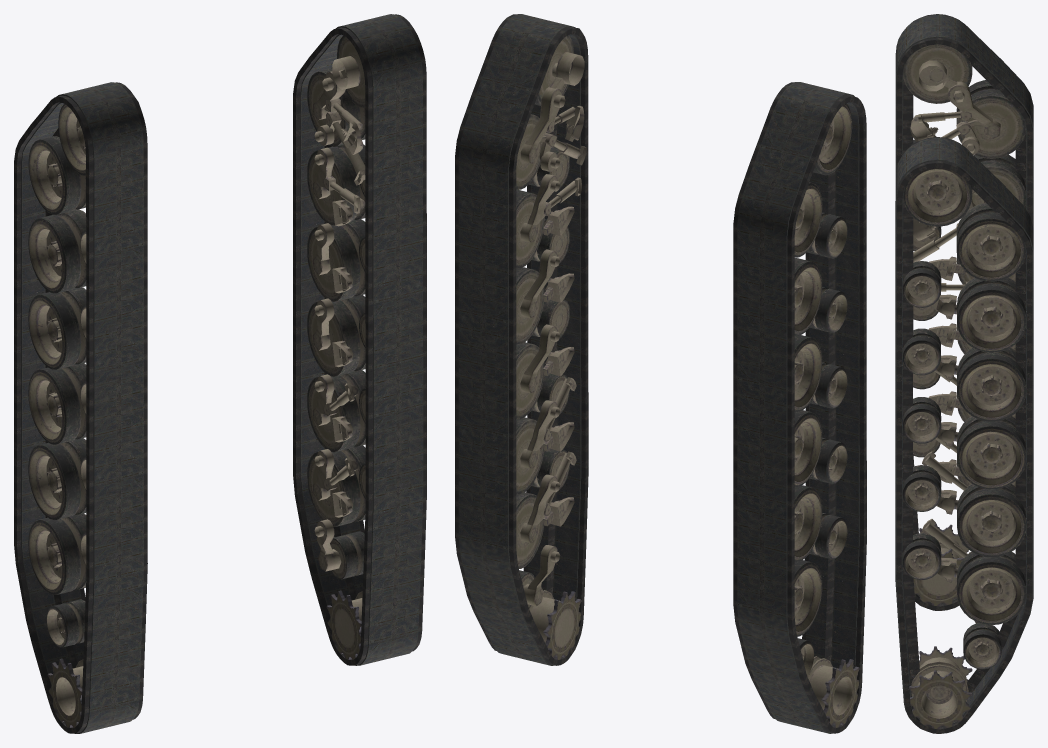
File: Chassis.glb
3 views of the same model, side by side, from view 1: azimuth 30°, elevation 25°; view 2: azimuth 150°, elevation 25°; view 3: azimuth 270°, elevation 25° (orthographic). The views are drawn at different scales.
Parts seen in each view (by area): view 1: set_1_group_0, set_0_group_0, set_3_group_0, set_2_group_0; view 2: set_1_group_0, set_0_group_0, set_3_group_0, set_2_group_0; view 3: set_3_group_0, set_0_group_0, set_2_group_0, set_1_group_0.
Boxes of the visible parts, <box> form: set_1_group_0: <box>14,82,147,733</box>; set_0_group_0: <box>293,14,426,665</box>; set_3_group_0: <box>307,35,365,659</box>; set_2_group_0: <box>28,104,86,727</box>; set_1_group_0: <box>733,82,866,733</box>; set_0_group_0: <box>455,14,588,665</box>; set_3_group_0: <box>516,35,586,659</box>; set_2_group_0: <box>794,103,859,727</box>; set_3_group_0: <box>902,167,1025,728</box>; set_0_group_0: <box>895,137,1033,733</box>; set_2_group_0: <box>903,44,1025,606</box>; set_1_group_0: <box>895,14,1033,610</box>.
Size of the model in its own units: 3.33 by 5.99 by 1.31.
4 materials, 4 textured.
